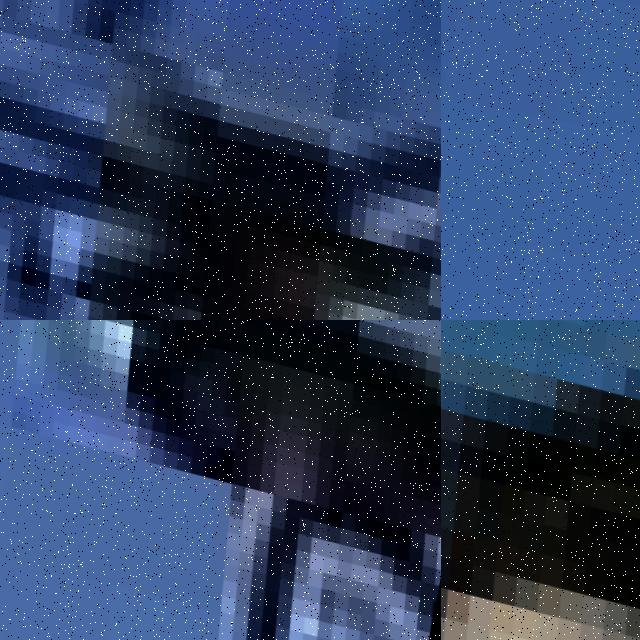0: (0, 0, 441, 320), (0, 320, 441, 640)
drone: (441, 320, 640, 640)
